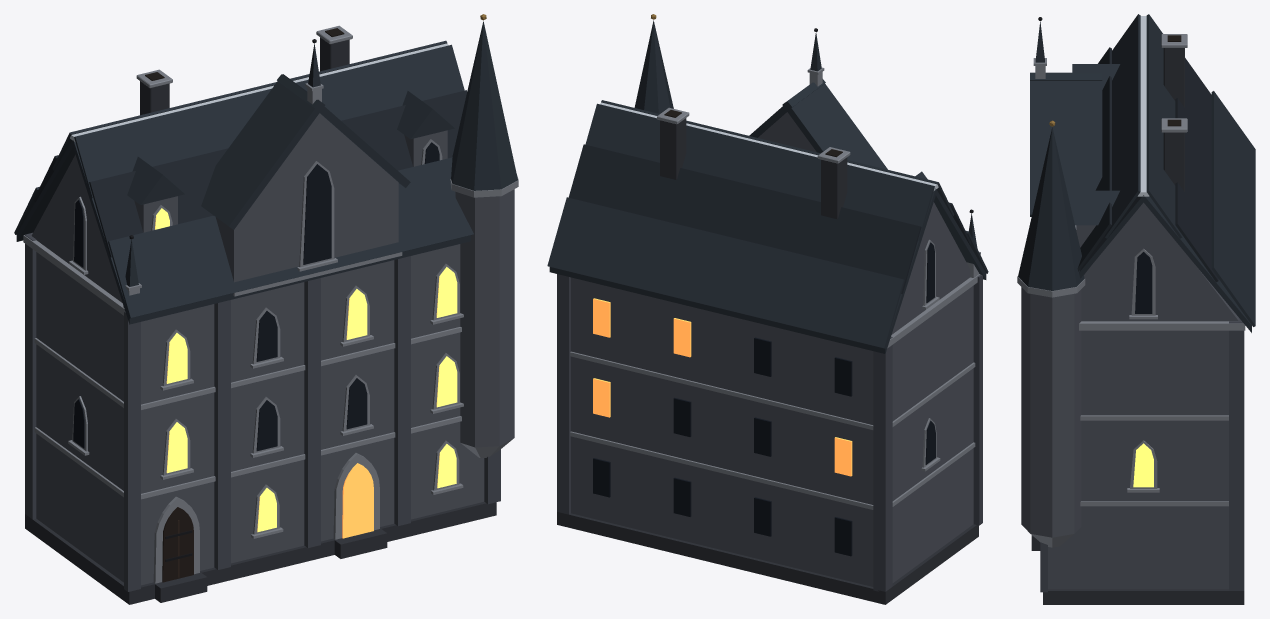
File: gothic_terrace_b.glb
3 renders of one model, left to right at view 1: azimuth 30°, elevation 25°; view 2: azimuth 150°, elevation 25°; view 3: azimuth 270°, elevation 25°, orthographic. The views are drawn at different scales.
Parts seen in each view (by area): view 1: gothic_terrace_b; view 2: gothic_terrace_b; view 3: gothic_terrace_b.
Boxes of the visible parts, x1=… form: gothic_terrace_b: x1=14, y1=14, x2=518, y2=604; gothic_terrace_b: x1=547, y1=14, x2=988, y2=604; gothic_terrace_b: x1=1017, y1=14, x2=1255, y2=604.
Bounding box in the file's own units: 12.74 × 16.09 × 6.93.
